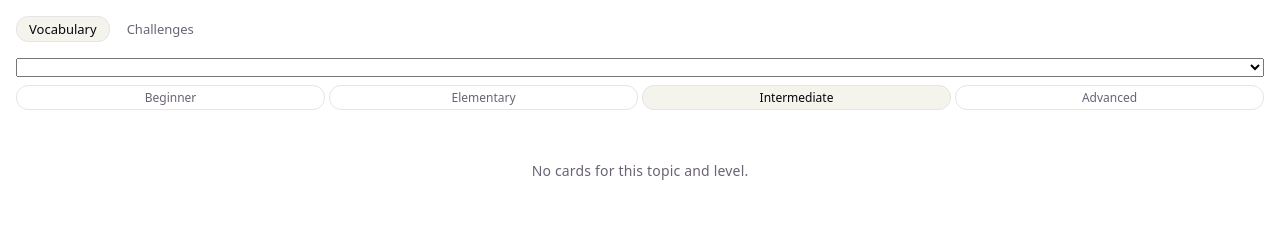
it: PronunciationView — challenges tab › clicking a challenge sets it as the target
Click the button "Challenges": (160, 29) [114,16,207,42]
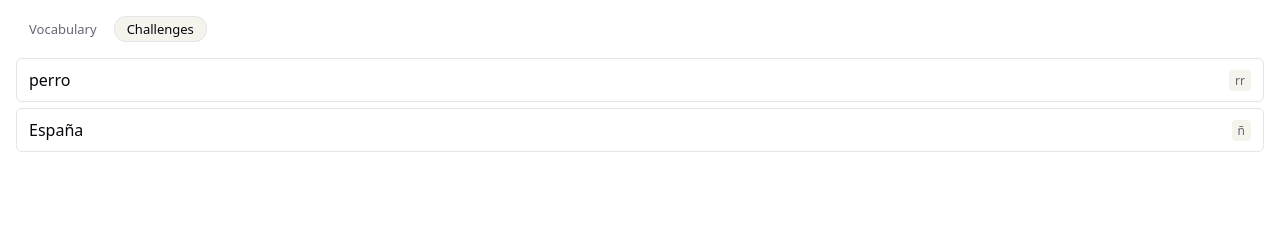
Now the text "perro" is shown
Click the text "perro": (50, 80) [29,69,70,91]
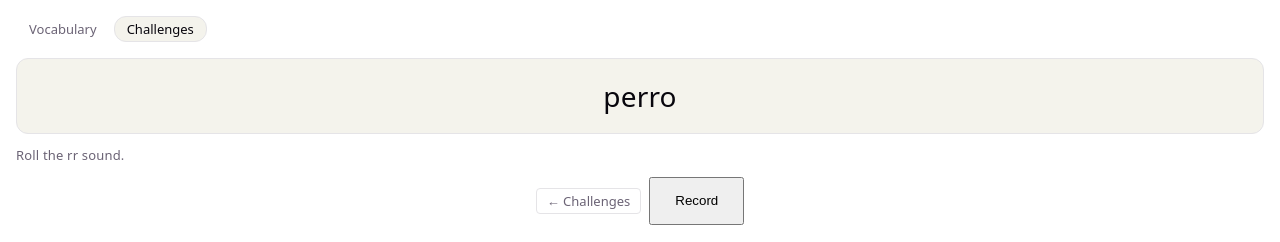
Now the text "Roll the rr sound." is shown, box [16,146,124,164]
